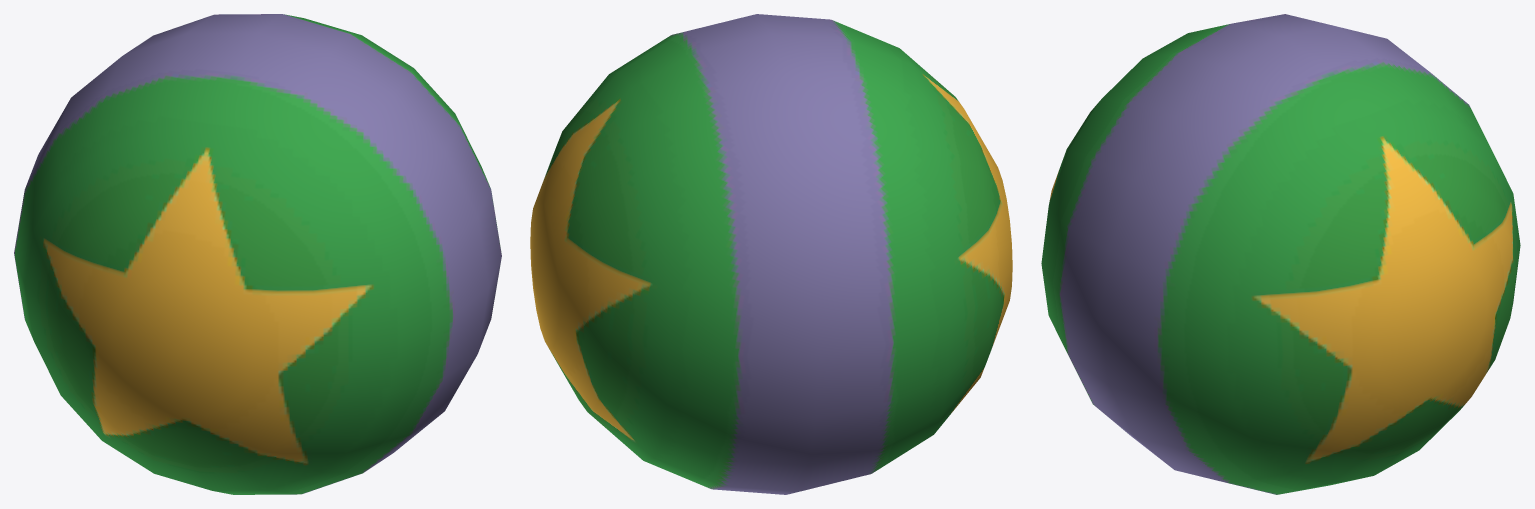
The model's file is pelota.obj.
3 views of the same model, side by side, from view 1: azimuth 30°, elevation 25°; view 2: azimuth 150°, elevation 25°; view 3: azimuth 270°, elevation 25° (orthographic).
Parts seen in each view (by area): view 1: polySurface78; view 2: polySurface78; view 3: polySurface78.
Boxes of the visible parts, <box> form: polySurface78: <box>14,14,501,494</box>; polySurface78: <box>530,14,1012,494</box>; polySurface78: <box>1041,14,1520,494</box>.
Bounding box in the file's own units: 0.7313 × 0.7343 × 0.7313.
1 material, 1 textured.
